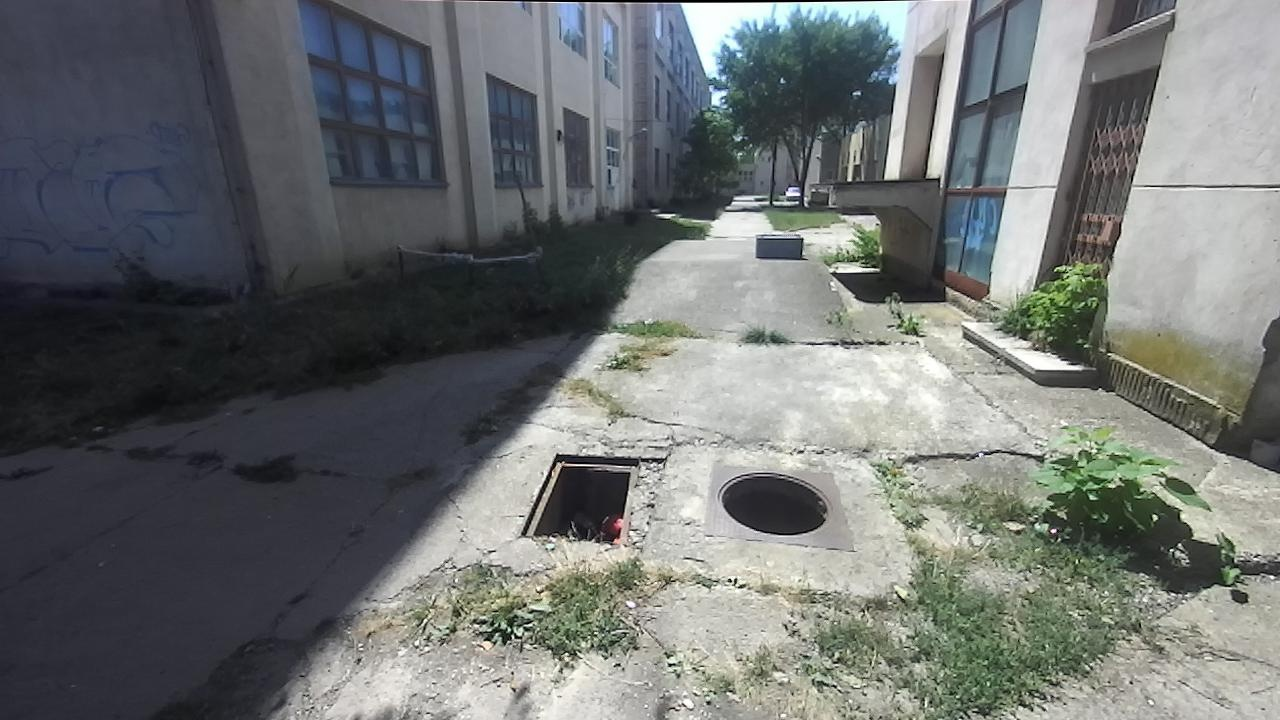drain: (510, 451, 646, 553), (707, 469, 837, 537)
